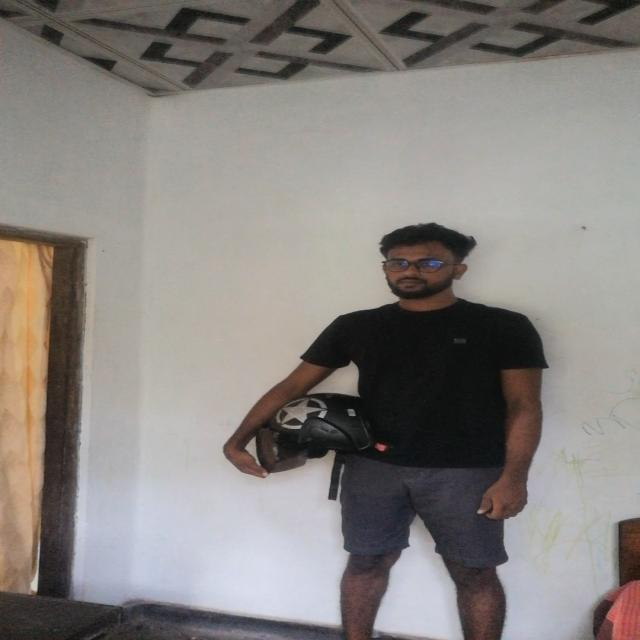Person: (228, 225, 590, 631)
